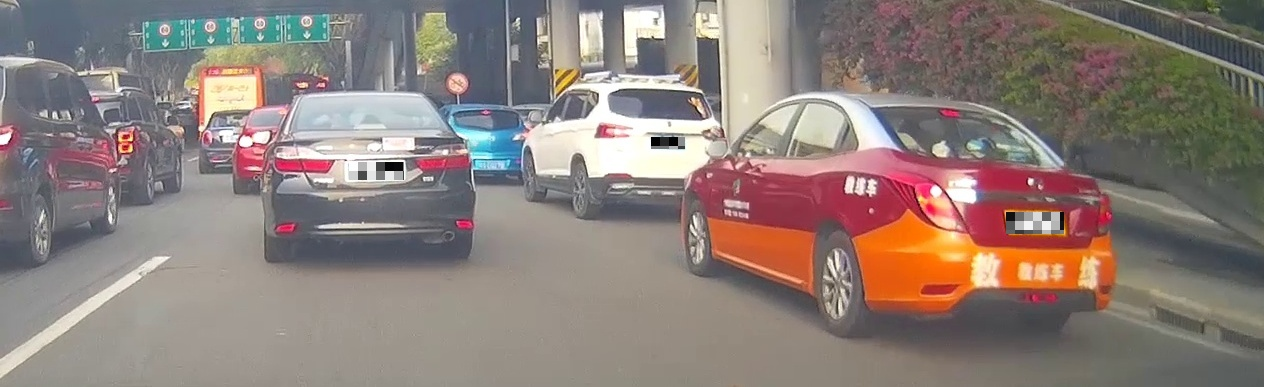L_light: (913, 182, 969, 233), (272, 146, 335, 174), (593, 121, 634, 139)
R_light: (416, 142, 472, 170), (1096, 191, 1112, 236), (701, 125, 725, 140)
T_light: (936, 108, 965, 117), (352, 123, 387, 129), (646, 89, 671, 94)
day-left: (861, 97, 1117, 338)
day-no: (266, 89, 476, 261), (590, 82, 728, 219)
plate_1: (349, 162, 404, 180)
plate_2: (651, 137, 685, 149)
plate_3: (1006, 212, 1064, 234)
